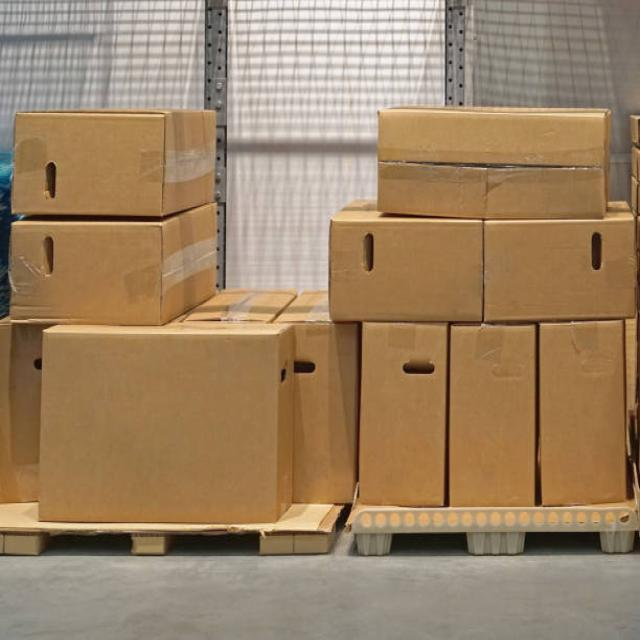Wooden-Pallets: (346, 502, 635, 574)
